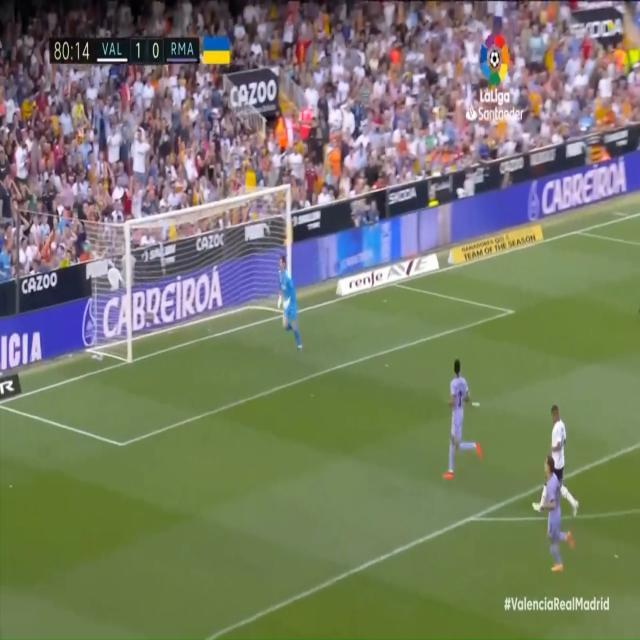goalkeeper: (278, 254, 304, 358)
player: (532, 396, 581, 517), (440, 356, 484, 481), (541, 452, 571, 576)
